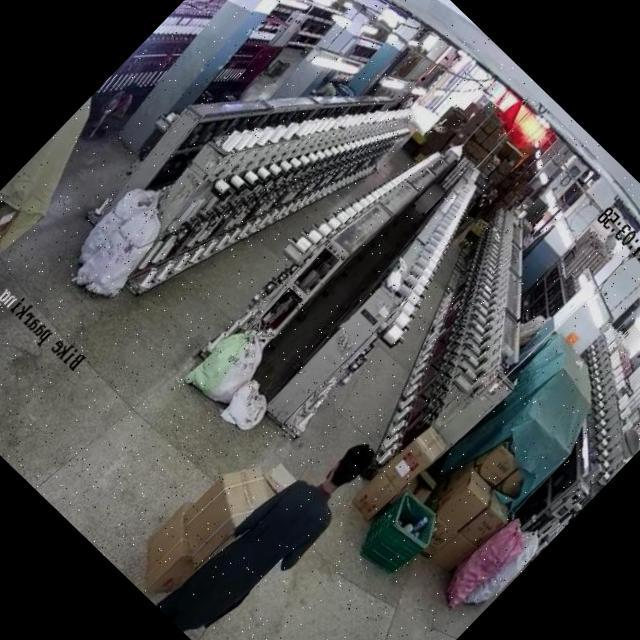person: (154, 415, 389, 640), (454, 184, 502, 233)
